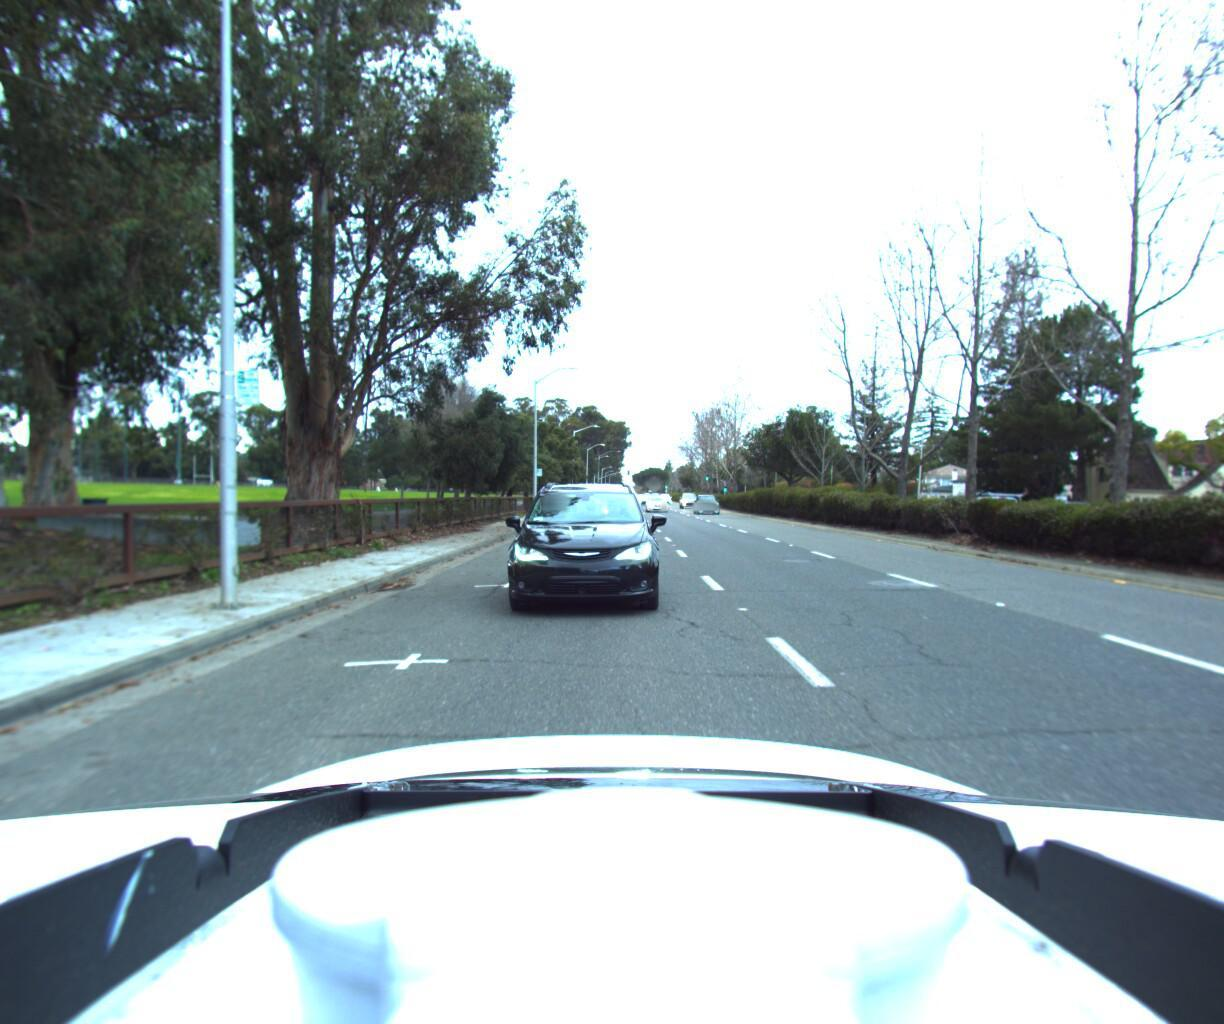car: (503, 474, 659, 618), (956, 489, 1026, 523), (693, 492, 724, 513), (642, 492, 667, 510), (673, 491, 696, 507)
